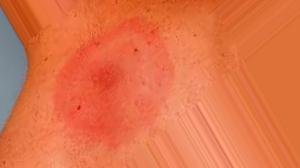Tick: (30, 10, 199, 167)
